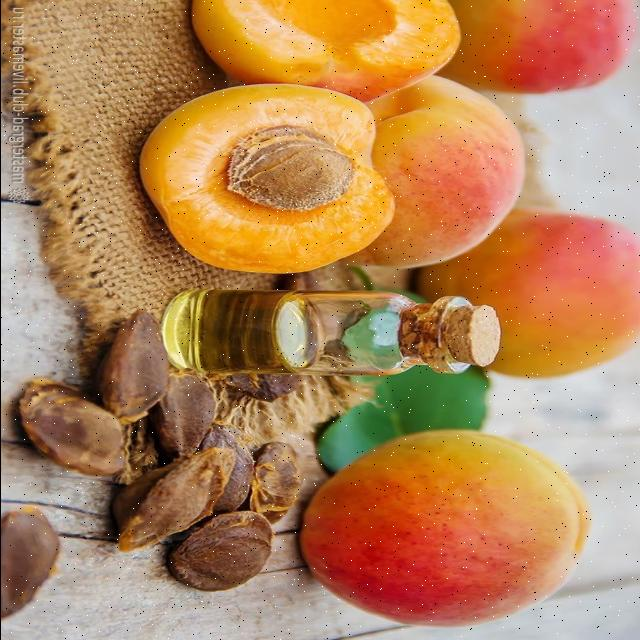Cekirdek: (226, 126, 354, 211), (19, 379, 123, 477), (169, 511, 271, 591), (95, 312, 169, 422)
Kayisi: (299, 430, 588, 627), (140, 84, 392, 273), (347, 76, 523, 269)
